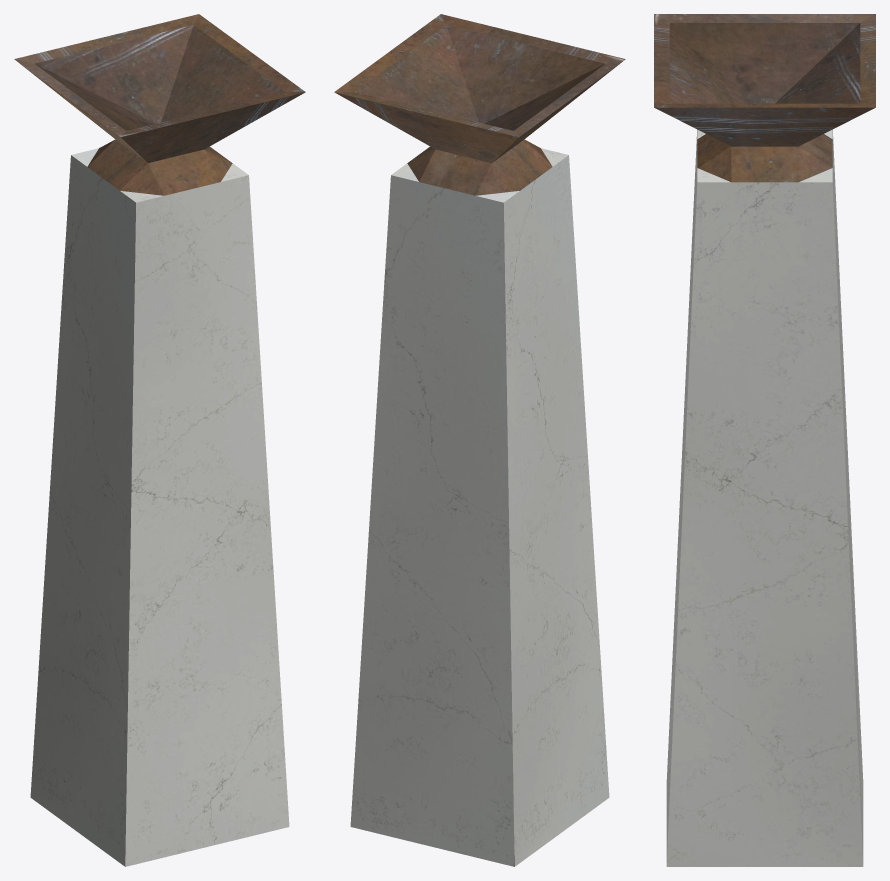
Rendered from brazier.glb.
3 renders of one model, left to right at view 1: azimuth 30°, elevation 25°; view 2: azimuth 150°, elevation 25°; view 3: azimuth 270°, elevation 25°, orthographic. The views are drawn at different scales.
Parts seen in each view (by area): view 1: Cube; view 2: Cube; view 3: Cube.
Part boxes in pixels (box(x1,y1,x2,y2)): Cube: box(14, 14, 305, 866); Cube: box(334, 14, 625, 866); Cube: box(654, 14, 875, 866).
Bounding box in the file's own units: 2.25 × 8.58 × 2.25.
1 material, 1 textured.
